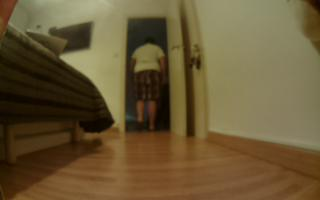person: (130, 33, 167, 138)
